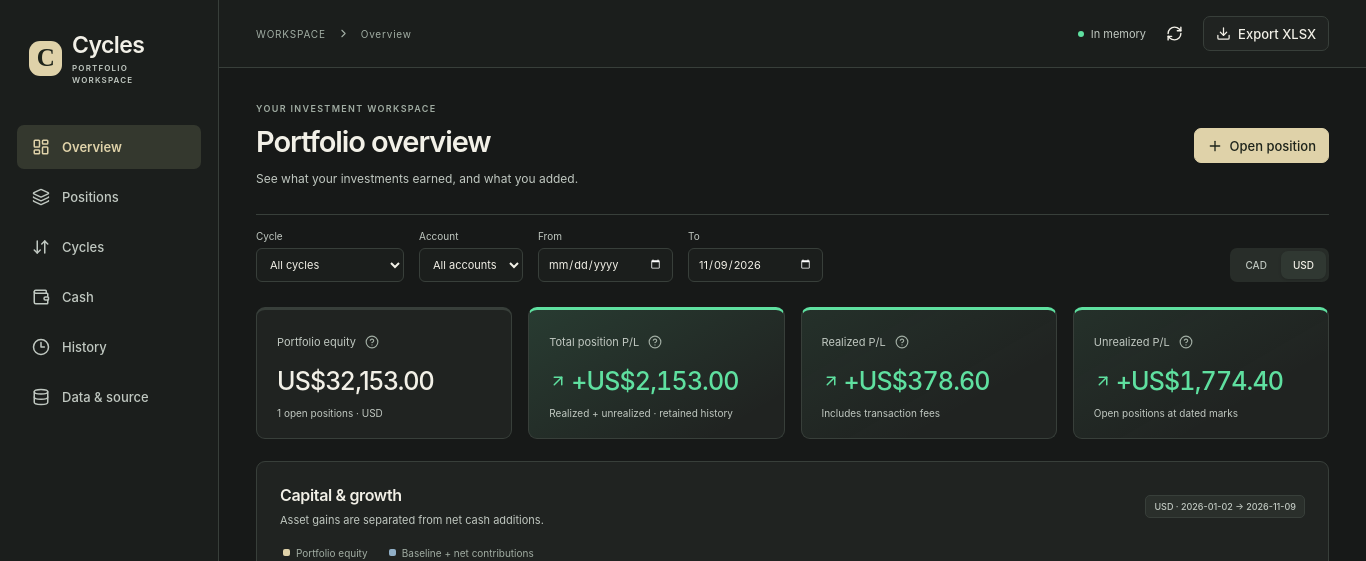
it: combines position currency with search and open/closed filters
The image size is (1366, 561).
Expected: the heading "Portfolio overview" is shown, [256, 124, 490, 159]
Click the button "Positions" at (109, 197), box [17, 175, 201, 219]
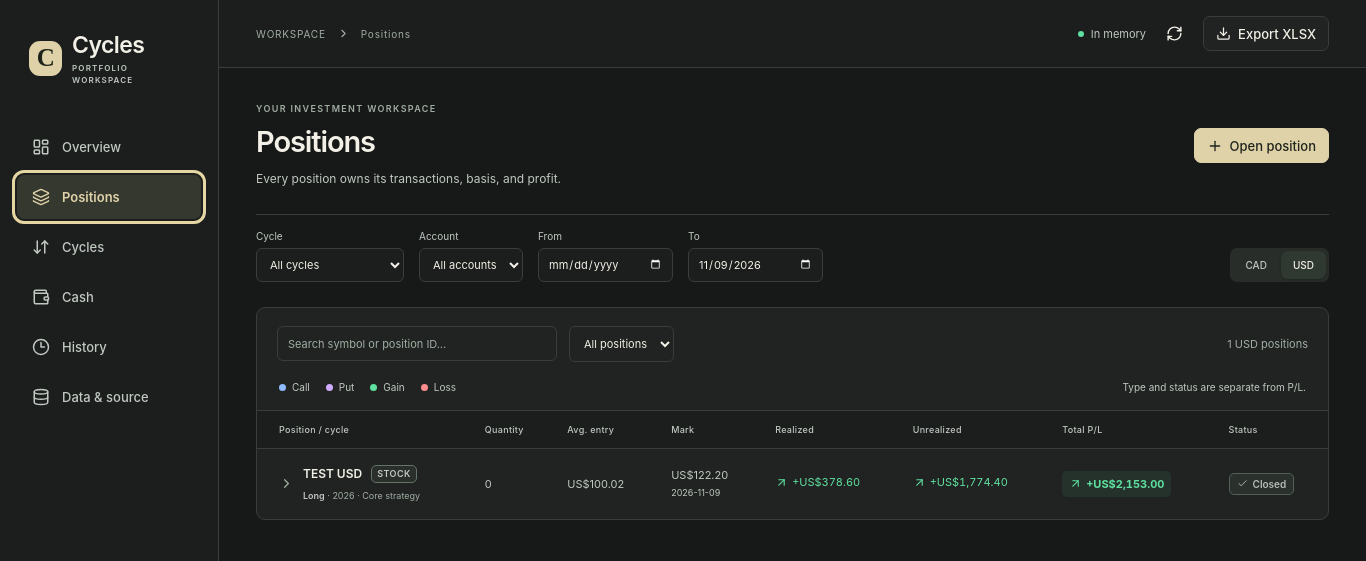
Type "TEST" into the field named "Search positions" at (417, 344), box [277, 326, 557, 361]
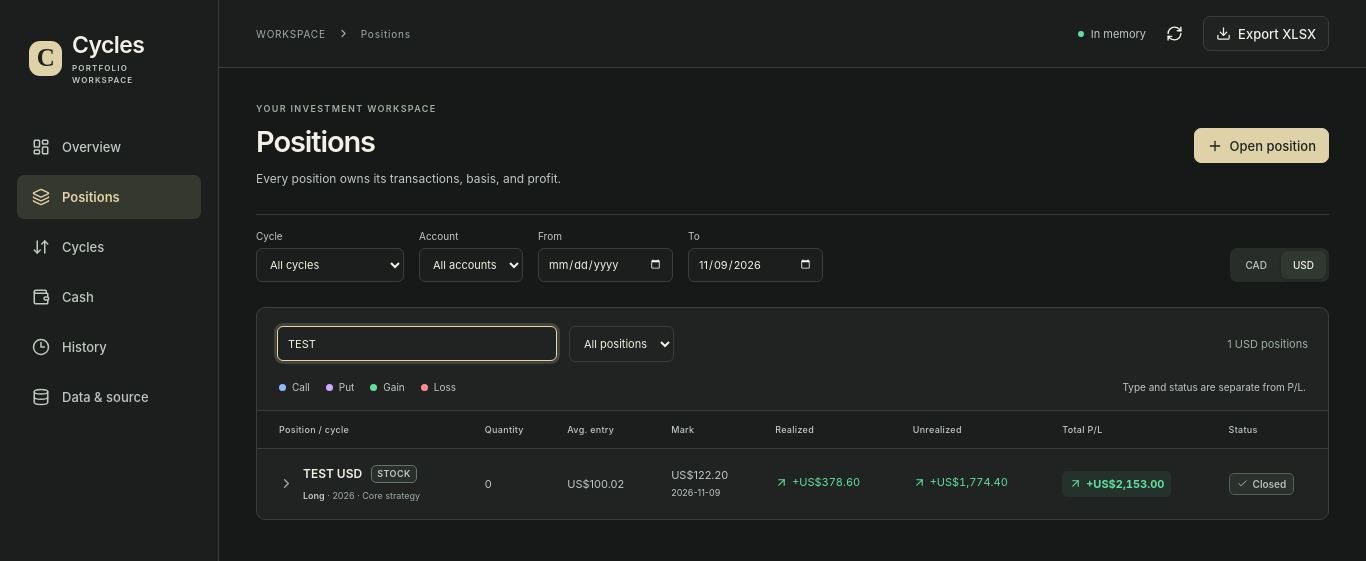
Select "Closed" in the dropdown named "Position status" at (622, 344), box [569, 326, 674, 362]
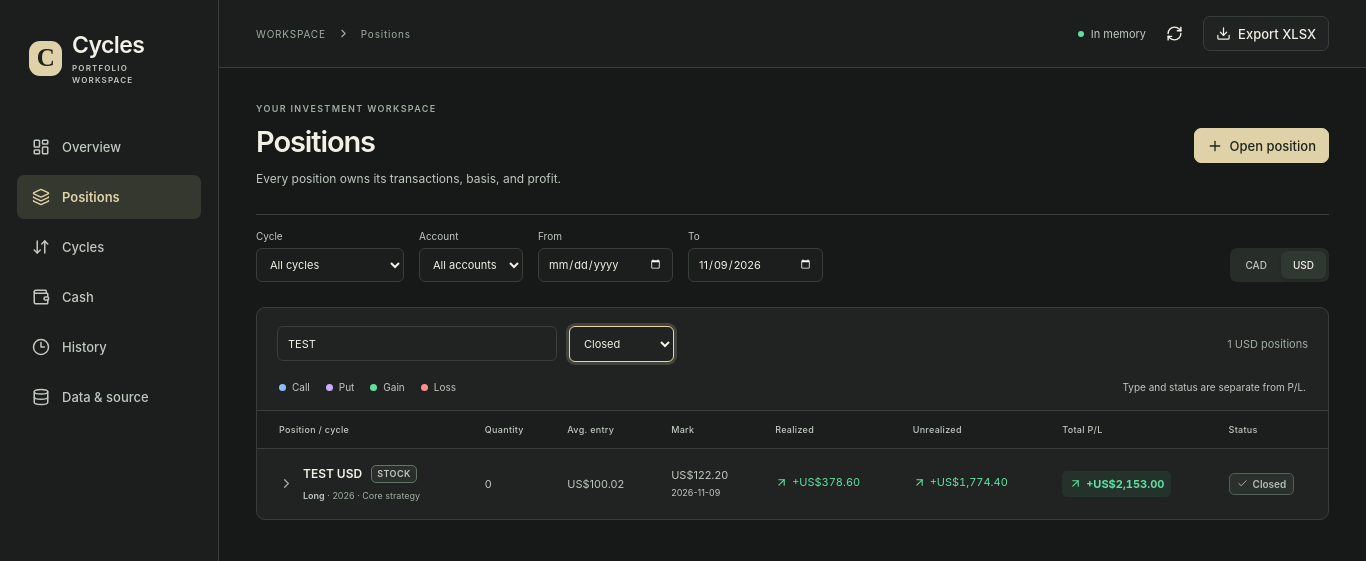
Click the button "CAD" at (1256, 265), box [1234, 251, 1279, 279]
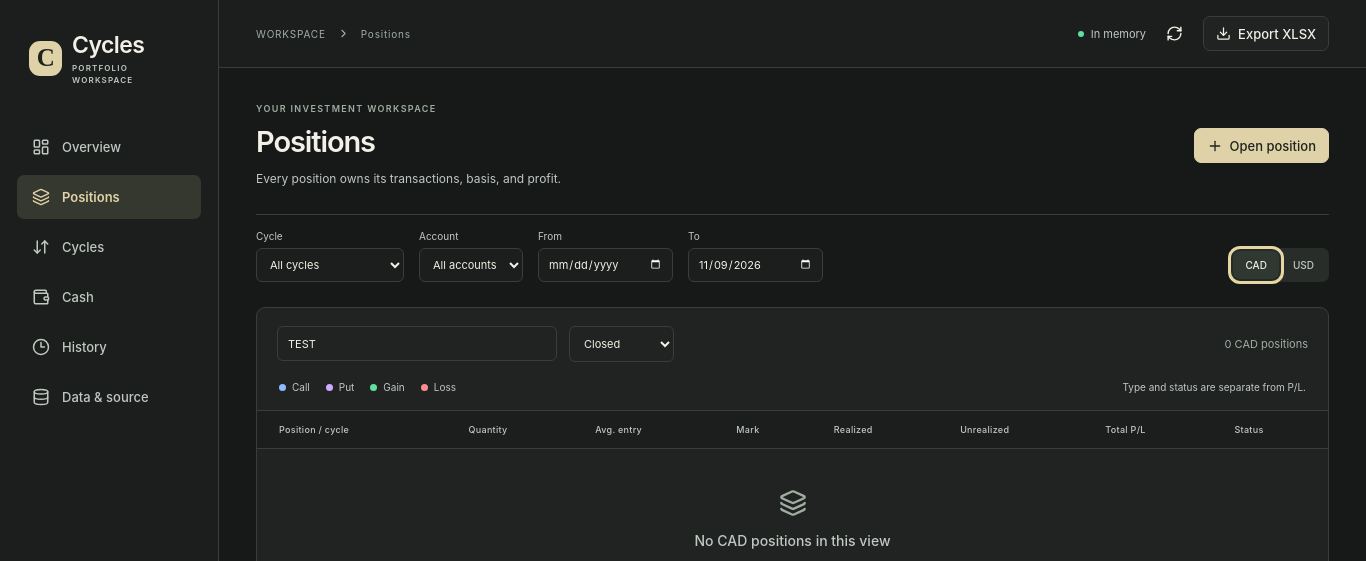
Now the heading "No CAD positions in this view" is shown, box [694, 532, 890, 549]
Select "Open" in the dropdown named "Position status" at (622, 344), box [569, 326, 674, 362]
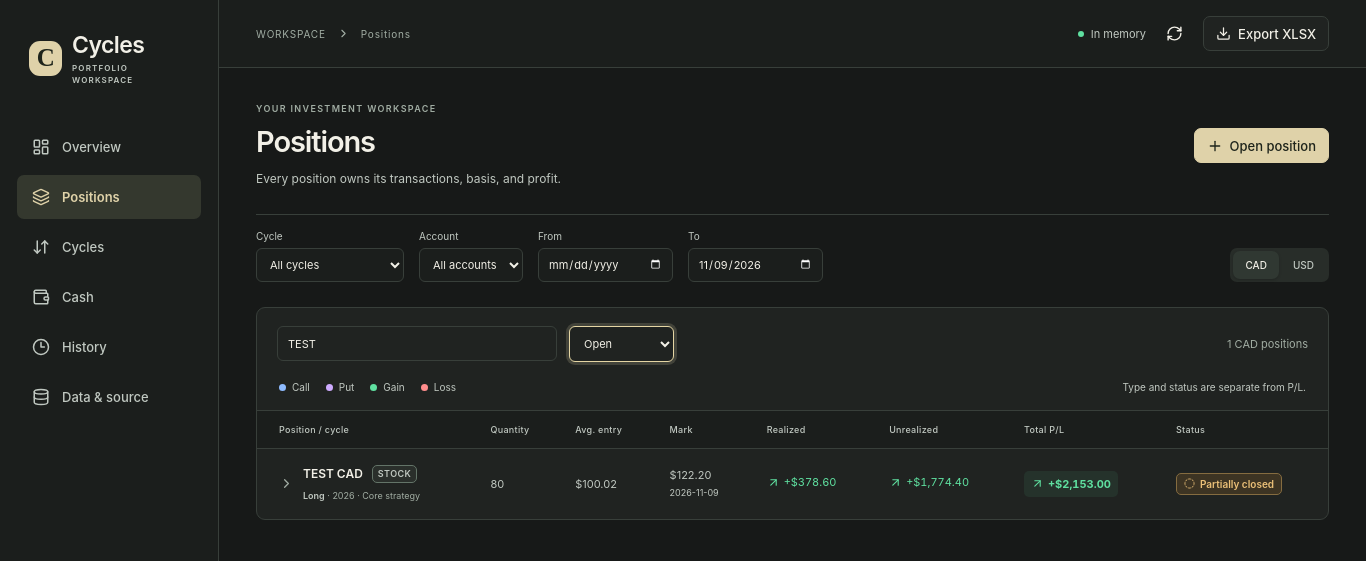
Expected: the button "TEST USD" is not shown
Now the button "TEST CAD Stock Long · 2026 · Core strategy" is shown, box [279, 465, 420, 503]
Replace the text in the field named "Search positions" with "USD" at (417, 344), box [277, 326, 557, 361]
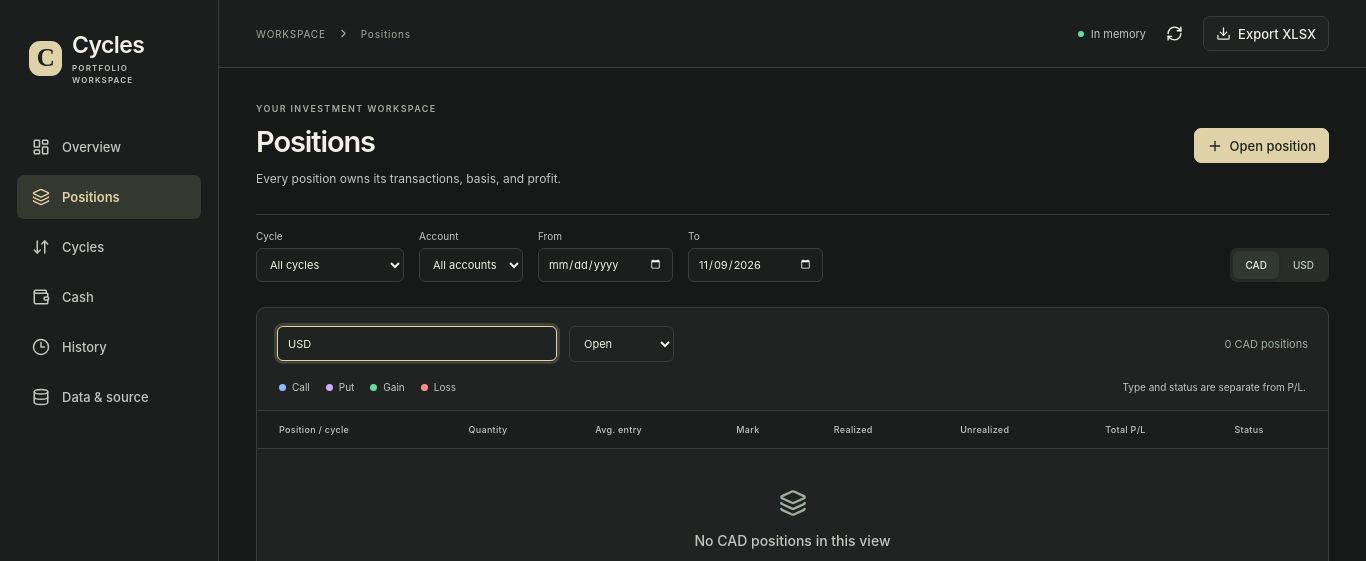
Now the heading "No CAD positions in this view" is shown, box [694, 532, 890, 549]
